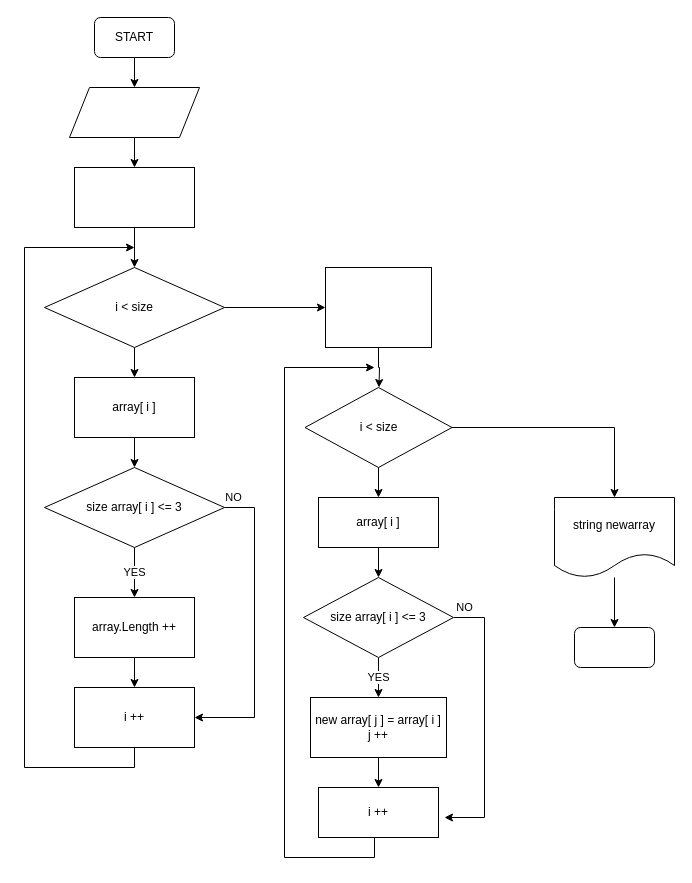
Some shapes in this 692 by 883 pixel diagram are drawn without their labels. The centre of each missing label's shape, as x and y in pixels:
END: (614,647)
i = 0; array.Length = 0: (134,197)
string array [size]: (134,112)
string newarray [new array.Length] i = 0; j = 0;: (378,307)
